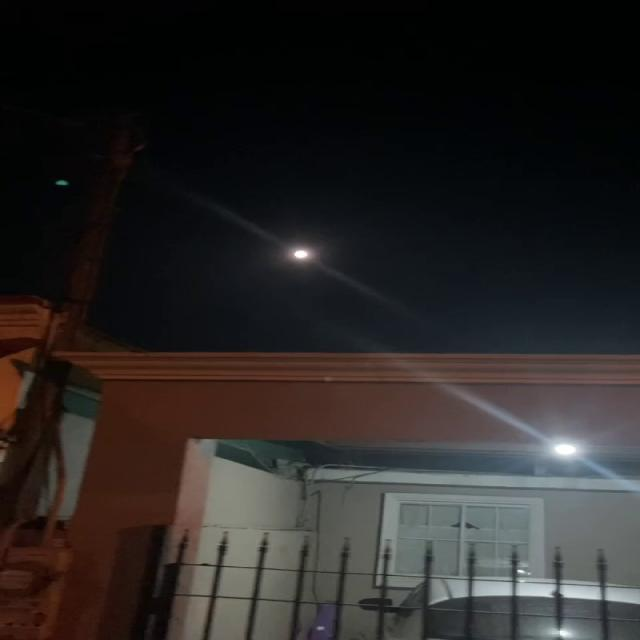moon: (291, 241, 320, 266)
